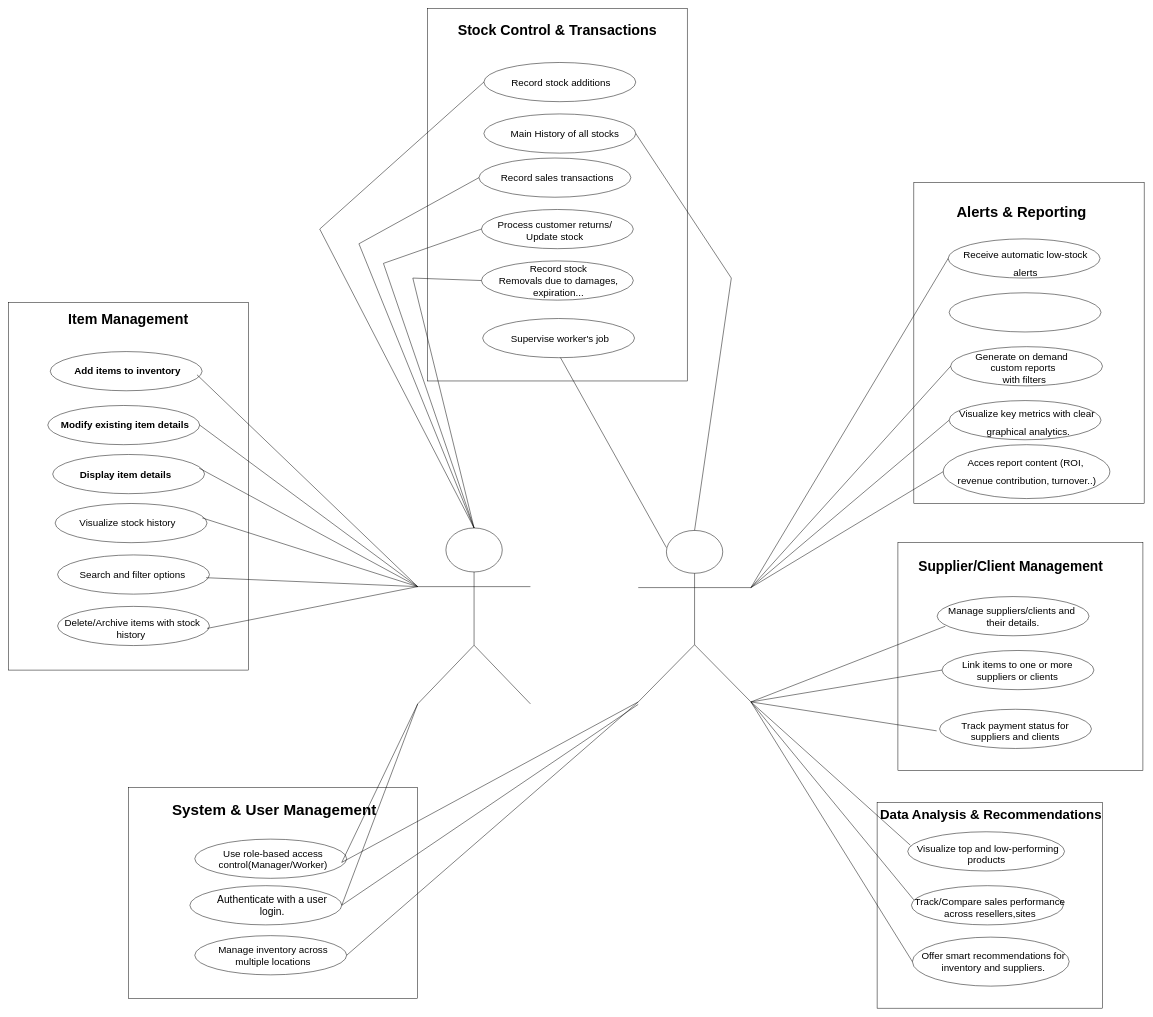
The diagram is 1153 pixels wide and 1017 high, and some of its shapes have lost their labels. Here are the shapes that lost their labels. From the top down, the centre of each, then its label:
pixel 1025 312: Generate/receive periodic summary reports
pixel 473 615: Worker
pixel 694 616: Manager
